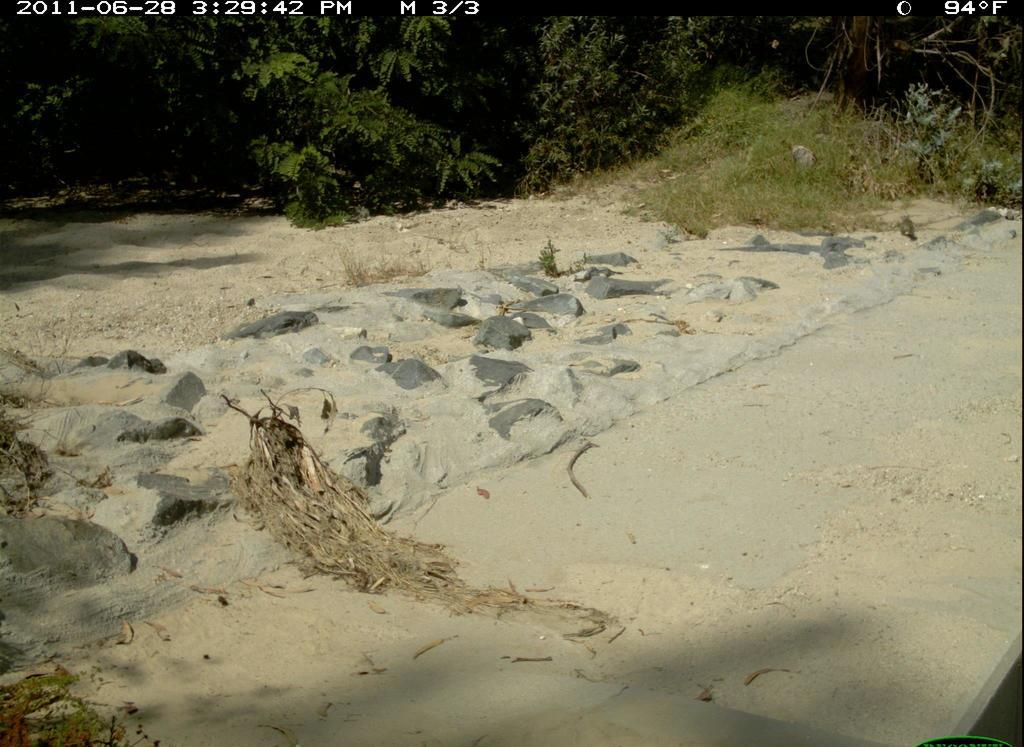squirrel: (890, 204, 921, 246)
